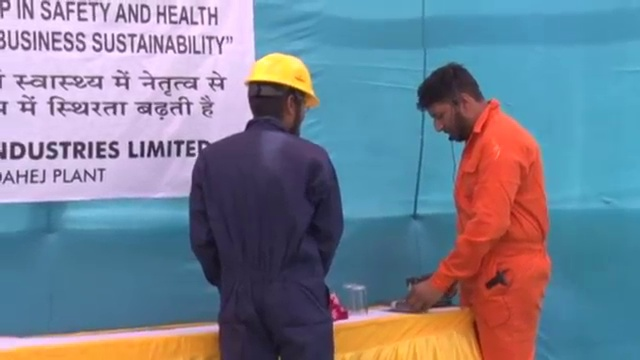helmet: (242, 53, 322, 106)
helmet_off: (415, 60, 491, 145)
helmet_on: (241, 53, 321, 138)
person: (188, 54, 347, 360), (407, 59, 552, 360)
